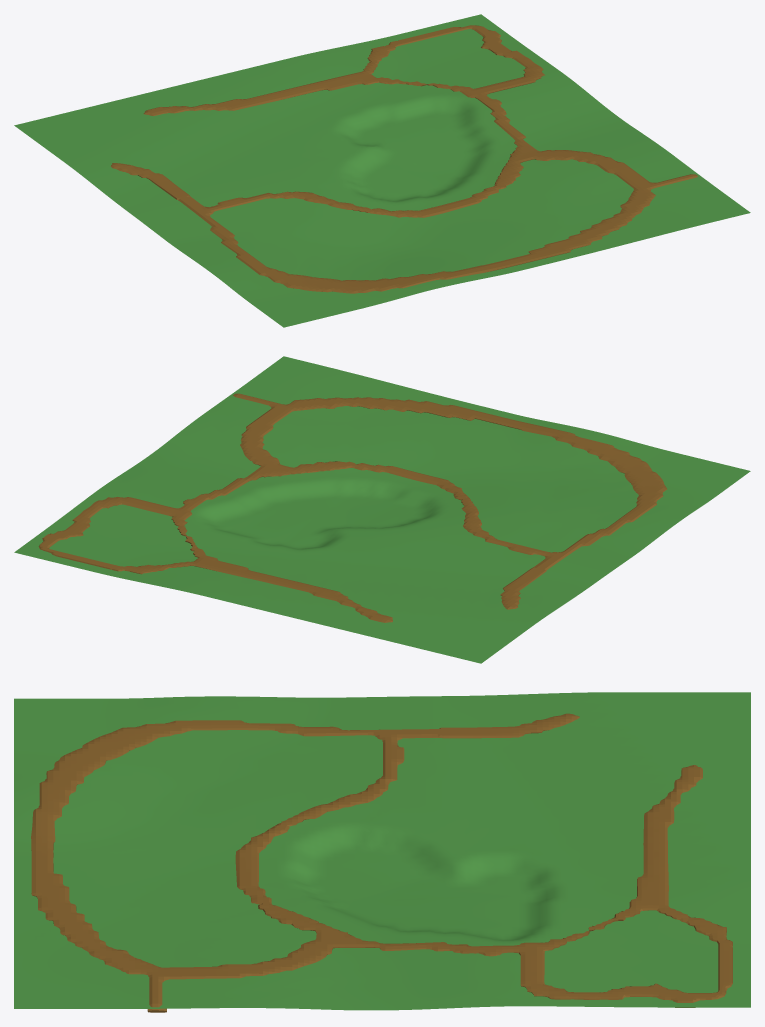
Rendered from terrain.fbx.
3 renders of one model, top to bottom at view 1: azimuth 30°, elevation 25°; view 2: azimuth 150°, elevation 25°; view 3: azimuth 270°, elevation 25°, orthographic. The views are drawn at different scales.
Visible parts, largest first — view 1: Terrain, Path; view 2: Terrain, Path; view 3: Terrain, Path.
Part boxes in pixels (left/top/right/bottom): Terrain: left=14, top=14, right=750, bottom=327; Path: left=111, top=25, right=697, bottom=293; Terrain: left=14, top=356, right=750, bottom=663; Path: left=38, top=393, right=667, bottom=622; Terrain: left=14, top=692, right=750, bottom=1010; Path: left=31, top=713, right=732, bottom=1012.
Bounding box in the file's own units: 100000 × 3091 × 100000.
